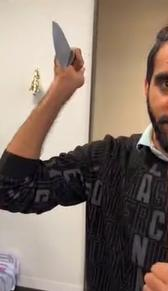Knife: (0, 26, 168, 291), (53, 48, 85, 90), (51, 21, 75, 67)
